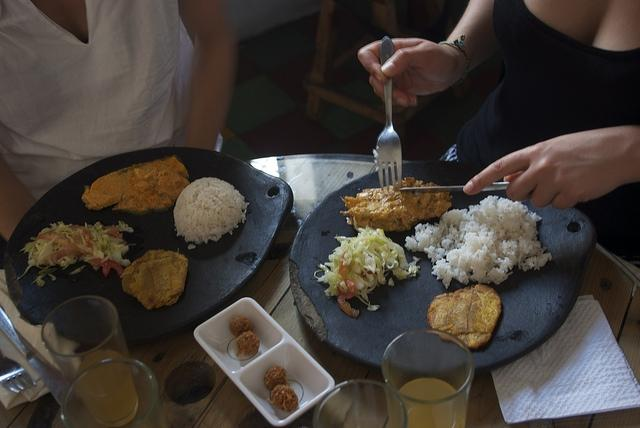tomato: (36, 225, 93, 255), (336, 280, 359, 319), (32, 250, 84, 265), (88, 259, 125, 277), (338, 252, 348, 279), (106, 227, 120, 237), (368, 271, 373, 274)
